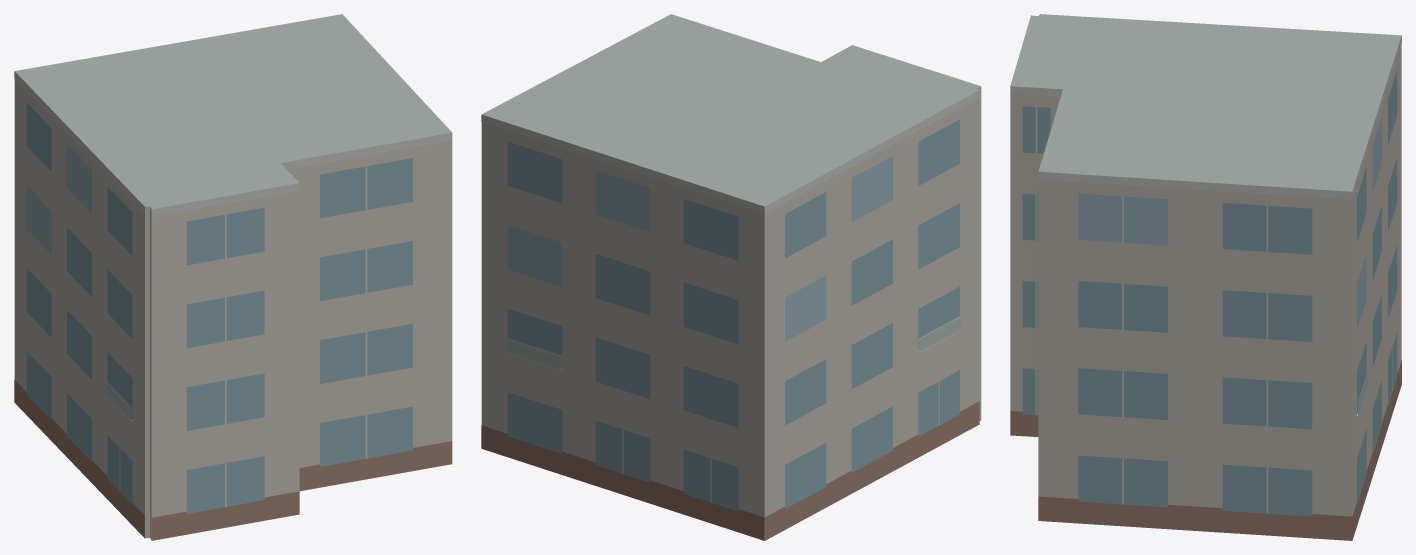
The model's file is survey-upis-32658968.glb.
The picture shows the model from 3 angles, left to right: view 1: azimuth 30°, elevation 25°; view 2: azimuth 150°, elevation 25°; view 3: azimuth 270°, elevation 25°; orthographic projection. The views are drawn at different scales.
Visible parts, largest first — view 1: survey-upis-32658968.tmp; view 2: survey-upis-32658968.tmp; view 3: survey-upis-32658968.tmp.
Part boxes in pixels (bbox=[...]): survey-upis-32658968.tmp: bbox=[14, 14, 452, 540]; survey-upis-32658968.tmp: bbox=[481, 14, 981, 540]; survey-upis-32658968.tmp: bbox=[1010, 14, 1401, 540].
Size of the model in its own units: 11.8 by 10.8 by 10.99.
